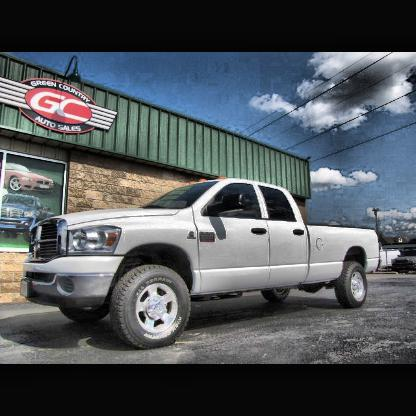Dodge Ram Pickup 3500 Quad Cab 2009: (22, 179, 380, 346)
